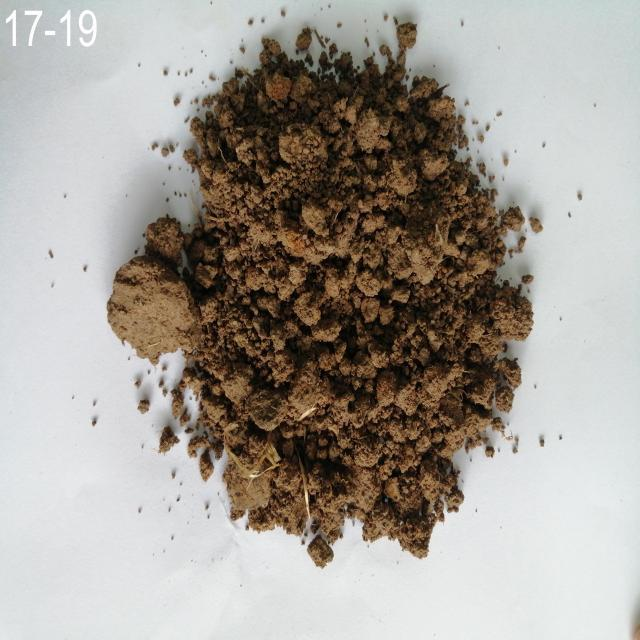soil: (224, 121, 466, 472)
